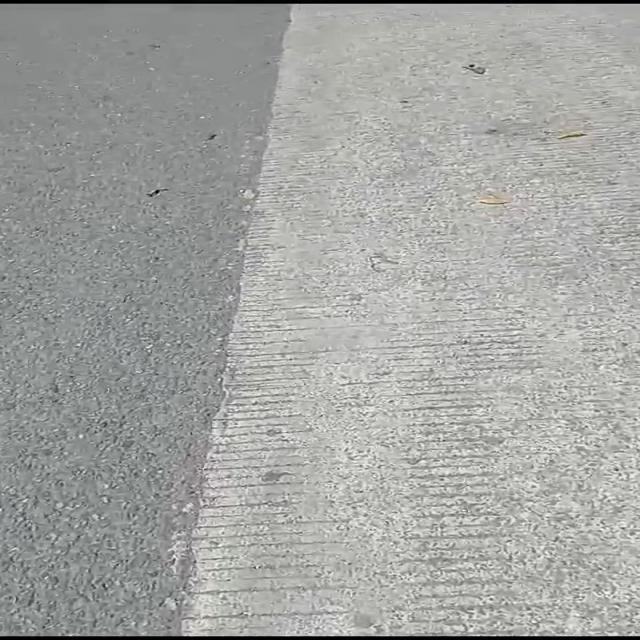Sambungan: (187, 0, 640, 640)
